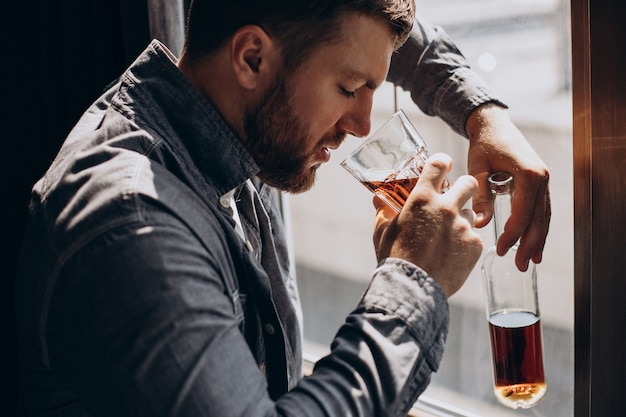alcohol: (338, 111, 473, 248), (480, 172, 548, 410)
